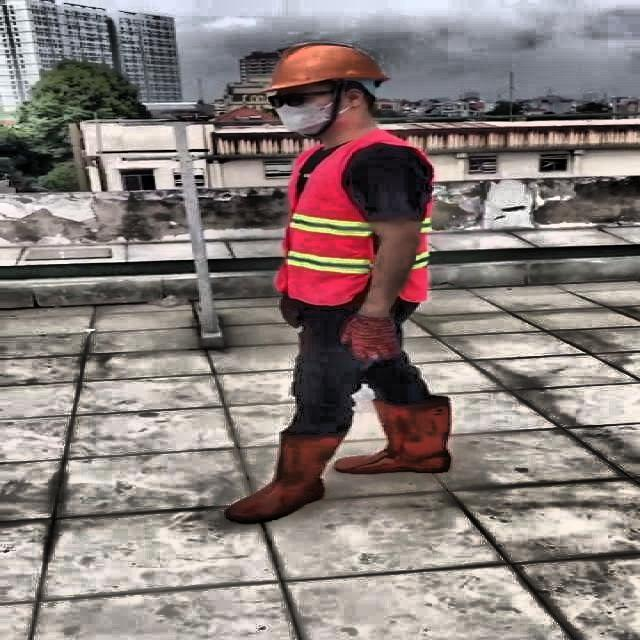safety_helmet: (264, 41, 389, 90)
safety_jacket: (284, 135, 434, 306)
